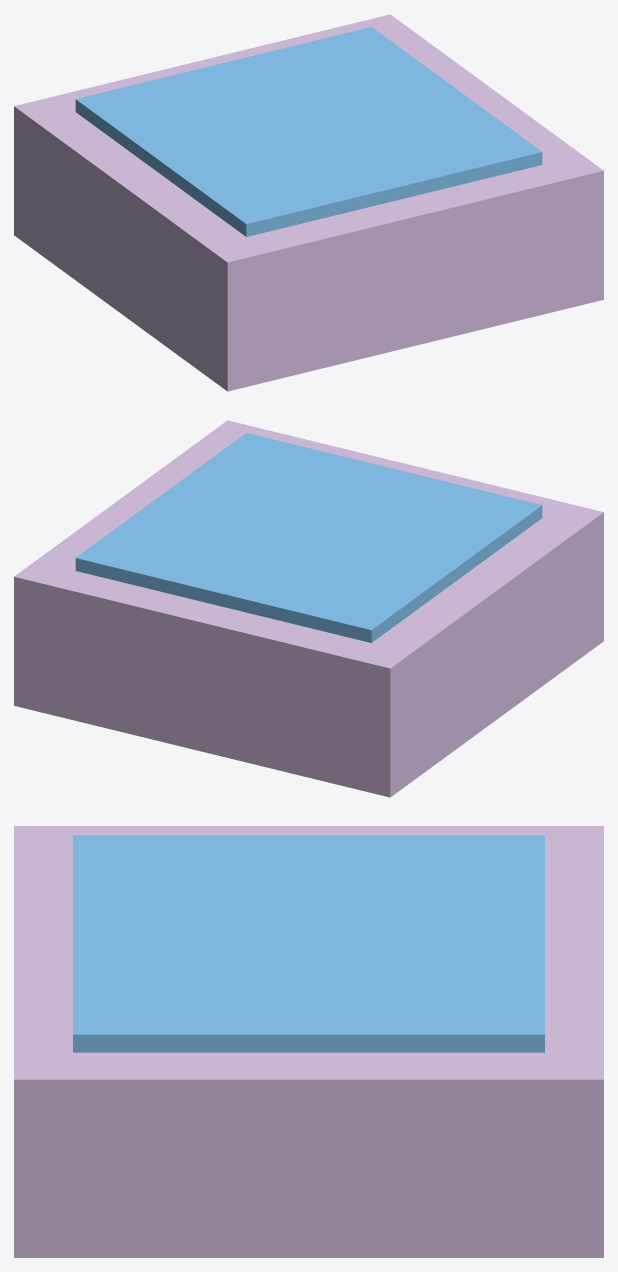
The model's file is Prop_Pet_AMF_Bowl_V9.glb.
3 renders of one model, top to bottom at view 1: azimuth 30°, elevation 25°; view 2: azimuth 150°, elevation 25°; view 3: azimuth 270°, elevation 25°, orthographic. The views are drawn at different scales.
Parts seen in each view (by area): view 1: Prop_Pet_AMF_Bowl_V9; view 2: Prop_Pet_AMF_Bowl_V9; view 3: Prop_Pet_AMF_Bowl_V9.
Part boxes in pixels (x1,y1,x2,y2): Prop_Pet_AMF_Bowl_V9: [14, 14, 603, 391]; Prop_Pet_AMF_Bowl_V9: [14, 420, 603, 797]; Prop_Pet_AMF_Bowl_V9: [14, 826, 603, 1257].
Size of the model in its own units: 0.3052 by 0.11 by 0.3.
